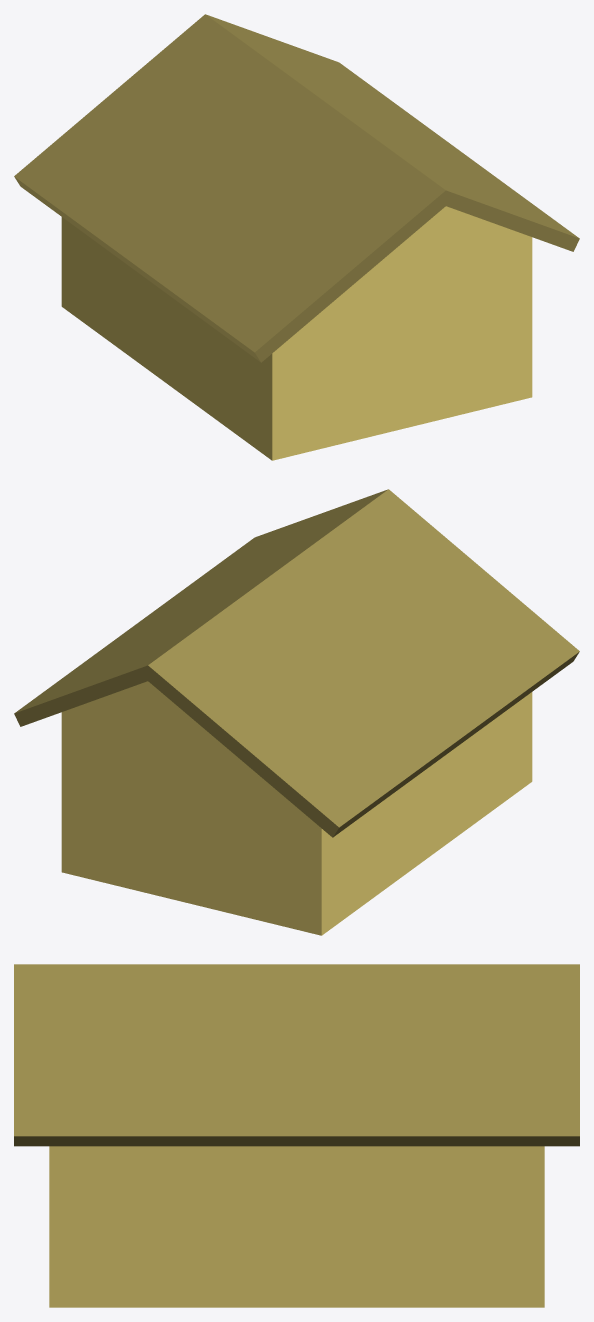
The model's file is result.glb.
3 views of the same model, one above another, from view 1: azimuth 30°, elevation 25°; view 2: azimuth 150°, elevation 25°; view 3: azimuth 270°, elevation 25° (orthographic). The views are drawn at different scales.
Parts seen in each view (by area): view 1: ca3bec8e-4ab0-4171-ad5b-d6cfdeec293d__undefined (×2), 5b2be9e6-beac-4cec-b2e3-211432f88f40__undefined; view 2: ca3bec8e-4ab0-4171-ad5b-d6cfdeec293d__undefined (×2), 5b2be9e6-beac-4cec-b2e3-211432f88f40__undefined; view 3: ca3bec8e-4ab0-4171-ad5b-d6cfdeec293d__undefined, 5b2be9e6-beac-4cec-b2e3-211432f88f40__undefined.
Boxes of the visible parts, <box> form: ca3bec8e-4ab0-4171-ad5b-d6cfdeec293d__undefined (×2): <box>14,14,579,362</box>; 5b2be9e6-beac-4cec-b2e3-211432f88f40__undefined: <box>61,206,532,460</box>; ca3bec8e-4ab0-4171-ad5b-d6cfdeec293d__undefined (×2): <box>14,489,579,837</box>; 5b2be9e6-beac-4cec-b2e3-211432f88f40__undefined: <box>61,681,532,935</box>; ca3bec8e-4ab0-4171-ad5b-d6cfdeec293d__undefined: <box>14,964,579,1146</box>; 5b2be9e6-beac-4cec-b2e3-211432f88f40__undefined: <box>49,1146,544,1307</box>.
Size of the model in its own units: 624 by 445 by 800.
